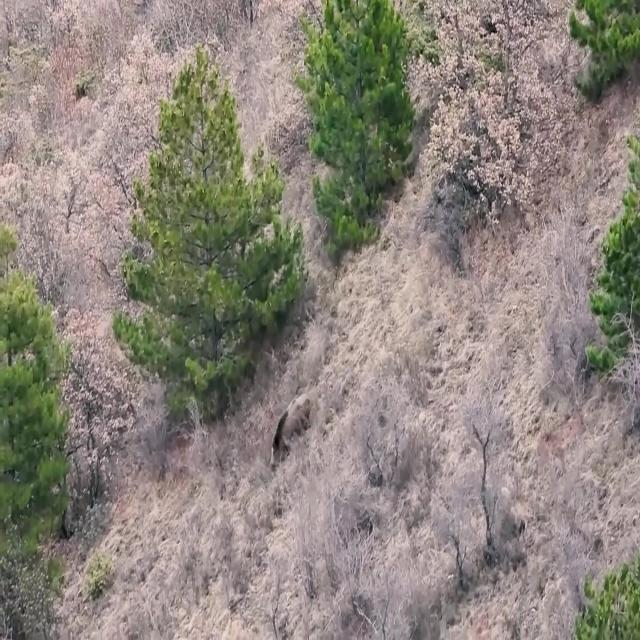pig: (256, 384, 313, 480)
